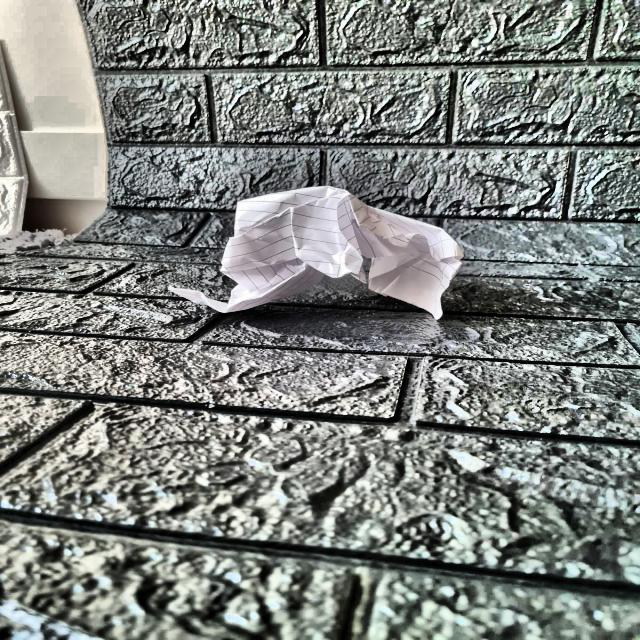Paper: (178, 186, 456, 320)
